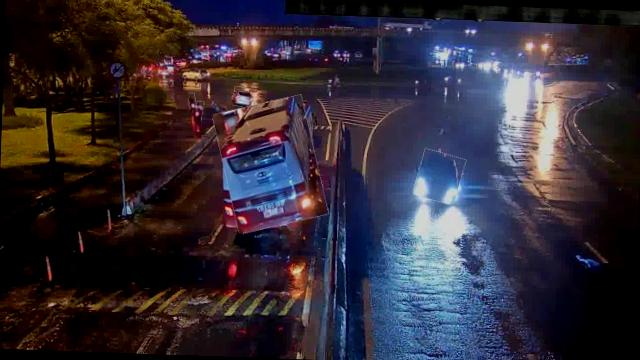Bike: (193, 101, 204, 122), (188, 93, 197, 110)
Bus: (216, 96, 326, 232)
Car: (414, 150, 464, 204), (232, 86, 258, 108)
